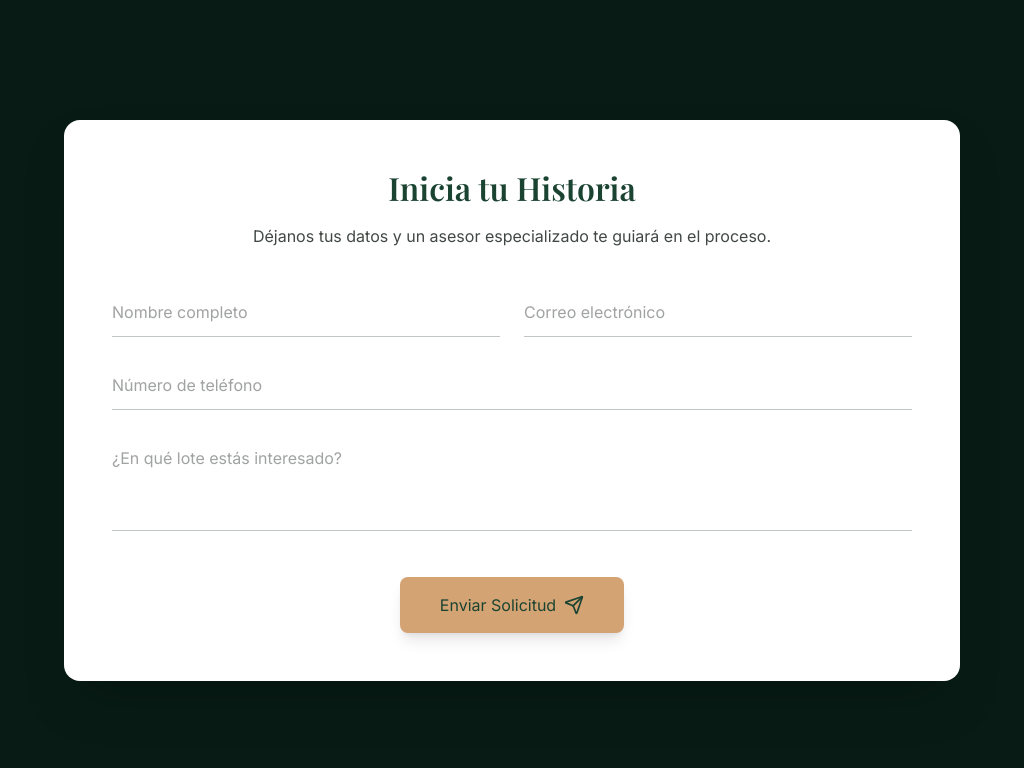
Test: ContactForm › shows validation errors for empty required fields
Click the button "Enviar Solicitud".
click(512, 605)  # box [400,577,624,633]
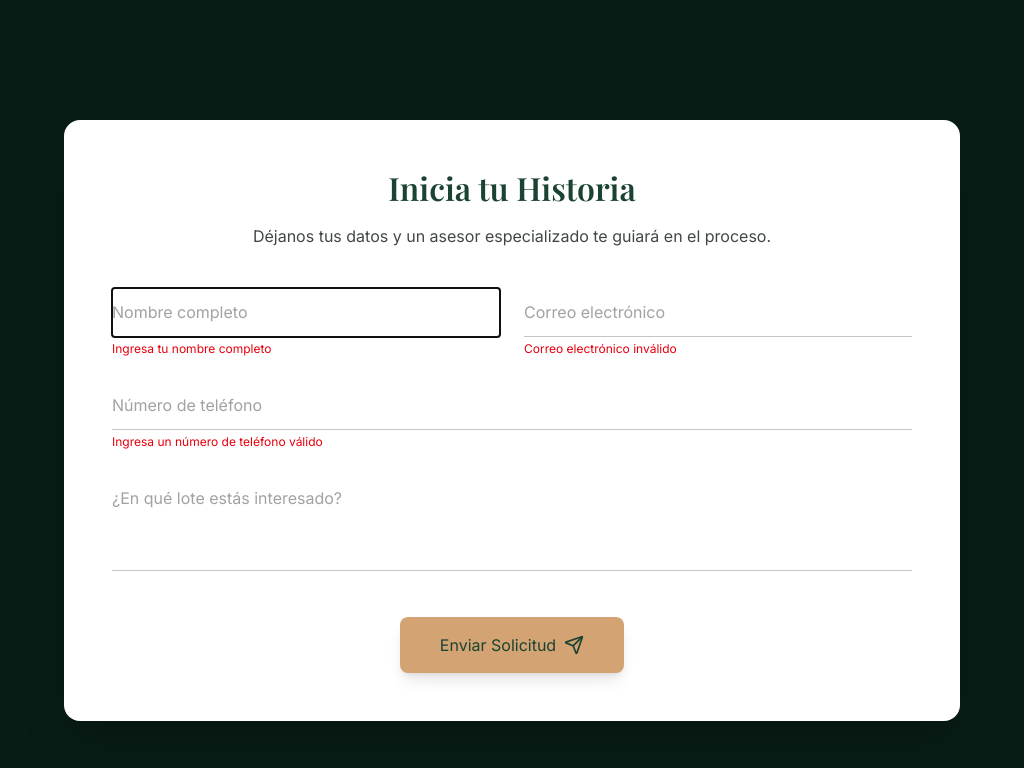
expect the text "Ingresa tu nombre completo" is shown: met, box [112,341,272,356]
expect the text "Correo electrónico inválido" is shown: met, box [524,341,677,356]
expect the text "Ingresa un número de teléfono válido" is shown: met, box [112,434,323,449]
